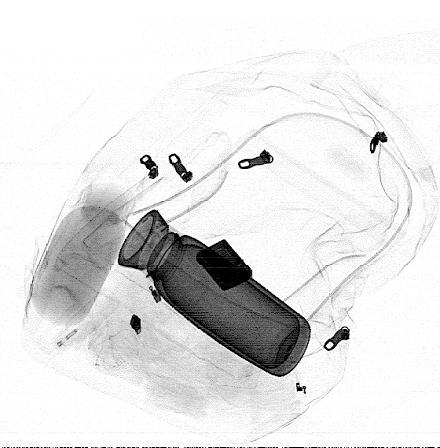Lighter: (196, 238, 252, 292)
